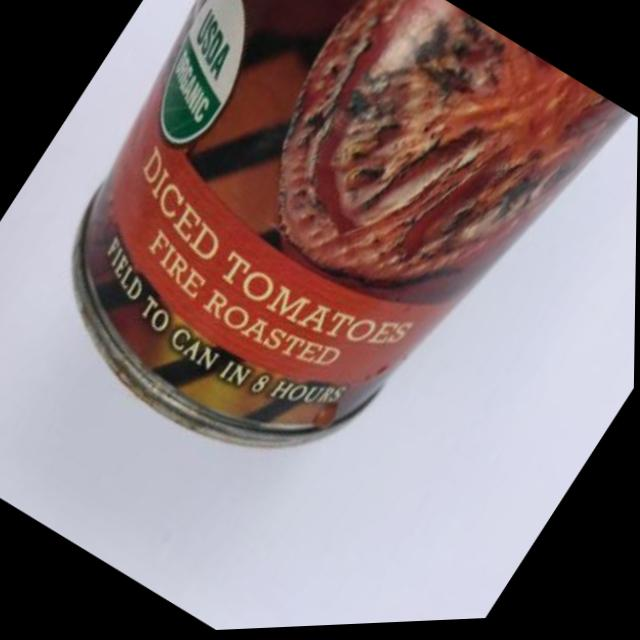metal: (0, 0, 638, 561)
